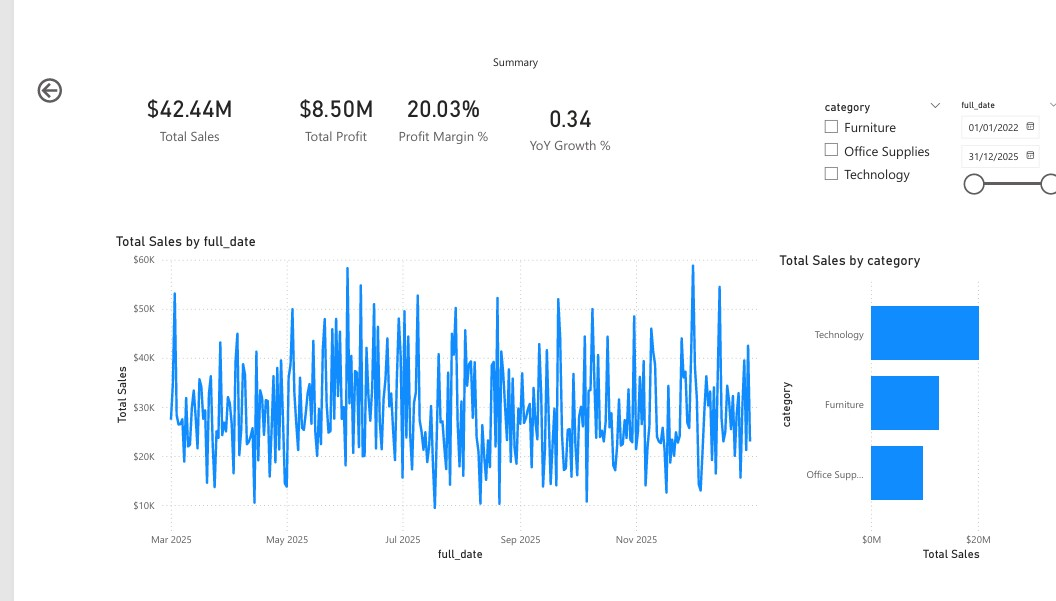

The page's visual inventory and layout, read from the dashboard file:
{"tool":"powerbi","page":{"name":"Executive Overview","canvas":[1280,720],"ordinal":0},"visuals":[{"type":"card","fields":{"Values":["fact_sales.Total Sales"]},"box":[96,96,192,96],"z":0},{"type":"card","fields":{"Values":["fact_sales.Total Profit"]},"box":[288,96,168,96],"z":1},{"type":"card","fields":{"Values":["fact_sales.YoY Growth %"]},"box":[576,120,168,72],"z":2},{"type":"card","fields":{"Values":["fact_sales.Profit Margin %"]},"box":[432,96,144,96],"z":4},{"type":"lineChart","fields":{"Category":["dim_date.full_date"],"Y":["fact_sales.Total Sales"]},"box":[96,288,816,408],"z":5},{"type":"actionButton","box":[0,93,100,40],"z":7},{"type":"slicer","fields":{"Values":["dim_date.full_date"]},"box":[1128,120,144,144],"z":8},{"type":"textbox","box":[560,64,112,48],"z":9},{"type":"barChart","fields":{"Category":["dim_product.category"],"Y":["fact_sales.Total Sales"]},"box":[912,312,336,384],"z":10},{"type":"slicer","fields":{"Values":["dim_product.category"]},"box":[960,120,168,144],"z":11}]}

Visuals, with their boxes in screenshot pixels (x1, y1, x2, y2), scaled from the page's 1280x720 canvas onto the 1056x601 screenshot:
card - fact_sales.Total Sales: detection(79, 80, 238, 160)
card - fact_sales.Total Profit: detection(238, 80, 376, 160)
card - fact_sales.YoY Growth %: detection(475, 100, 614, 160)
card - fact_sales.Profit Margin %: detection(356, 80, 475, 160)
lineChart - dim_date.full_date x fact_sales.Total Sales: detection(79, 240, 752, 581)
actionButton: detection(0, 78, 82, 111)
slicer - dim_date.full_date: detection(931, 100, 1049, 220)
textbox: detection(462, 53, 554, 93)
barChart - dim_product.category x fact_sales.Total Sales: detection(752, 260, 1030, 581)
slicer - dim_product.category: detection(792, 100, 931, 220)
